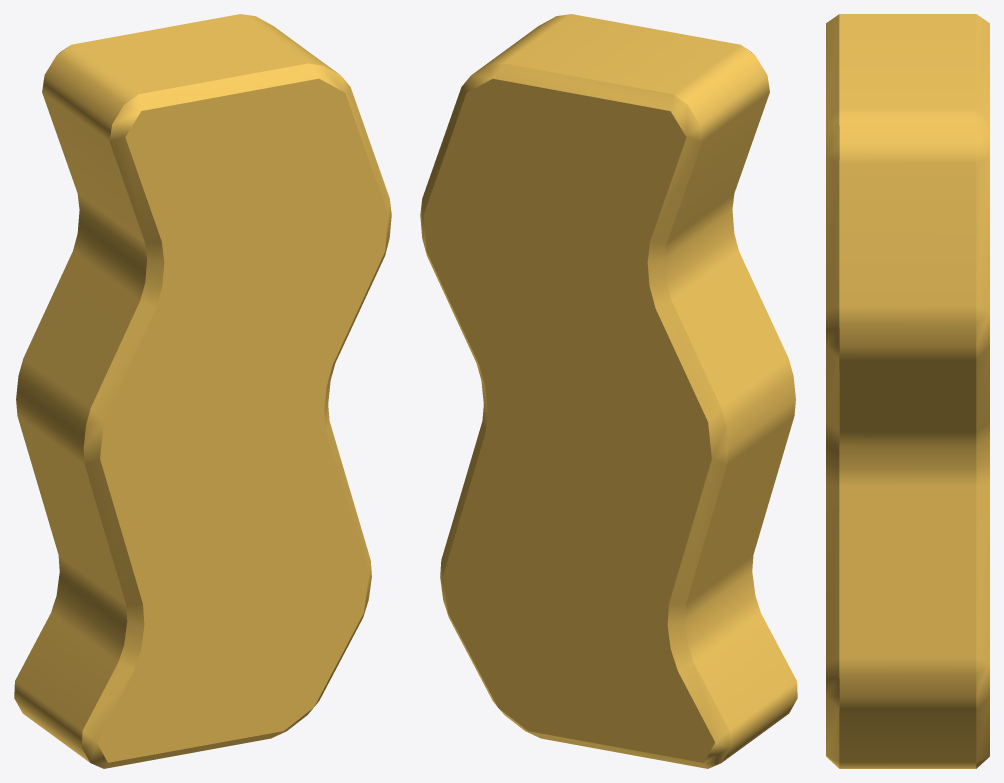
The model's file is O_squiggle.fbx.
3 views of the same model, side by side, from view 1: azimuth 30°, elevation 25°; view 2: azimuth 150°, elevation 25°; view 3: azimuth 270°, elevation 25° (orthographic).
Visible parts, largest first — view 1: squiggle; view 2: squiggle; view 3: squiggle.
Part boxes in pixels (bbox=[...]): squiggle: bbox=[14, 14, 391, 768]; squiggle: bbox=[420, 14, 797, 768]; squiggle: bbox=[826, 14, 989, 768].
Bounding box in the file's own units: 424 × 885 × 192.
